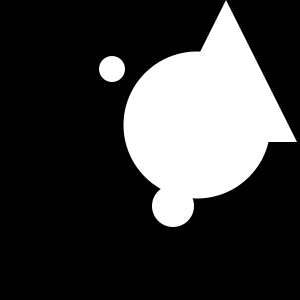rectangle: (123, 52, 270, 198), (152, 185, 194, 227), (99, 56, 125, 82)
triangle: (155, 0, 297, 142)
